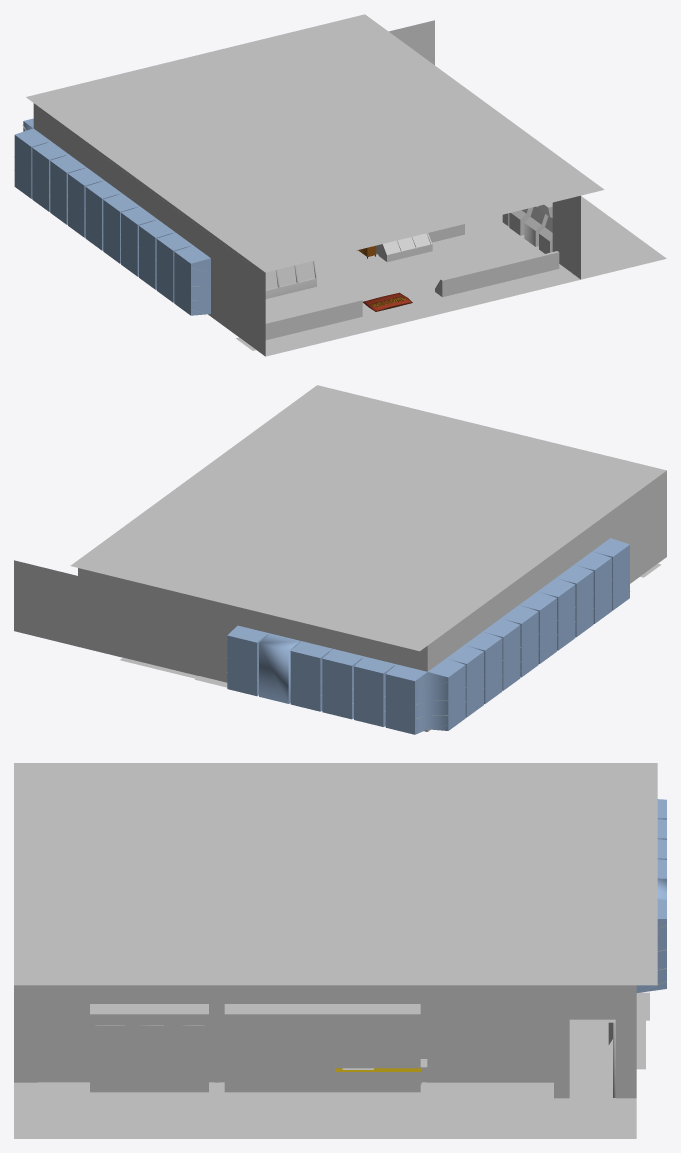
The model's file is kwik-e-mart.fbx.
3 renders of one model, top to bottom at view 1: azimuth 30°, elevation 25°; view 2: azimuth 150°, elevation 25°; view 3: azimuth 270°, elevation 25°, orthographic. The views are drawn at different scales.
Parts seen in each view (by area): view 1: kwik-e-mart; view 2: kwik-e-mart; view 3: kwik-e-mart.
Boxes of the visible parts, x1,y1,x2,y2 form: kwik-e-mart: (14,14,666,356); kwik-e-mart: (14,385,666,734); kwik-e-mart: (14,763,666,1138).
Bounding box in the file's own units: 1827 × 354 × 1829.
